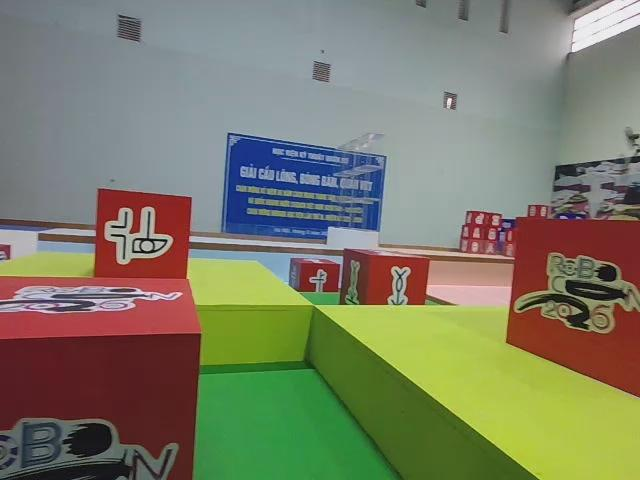R1: (0, 266, 206, 480), (499, 211, 640, 397)
R2 Real: (96, 184, 192, 286), (337, 249, 429, 313), (290, 253, 340, 295)
